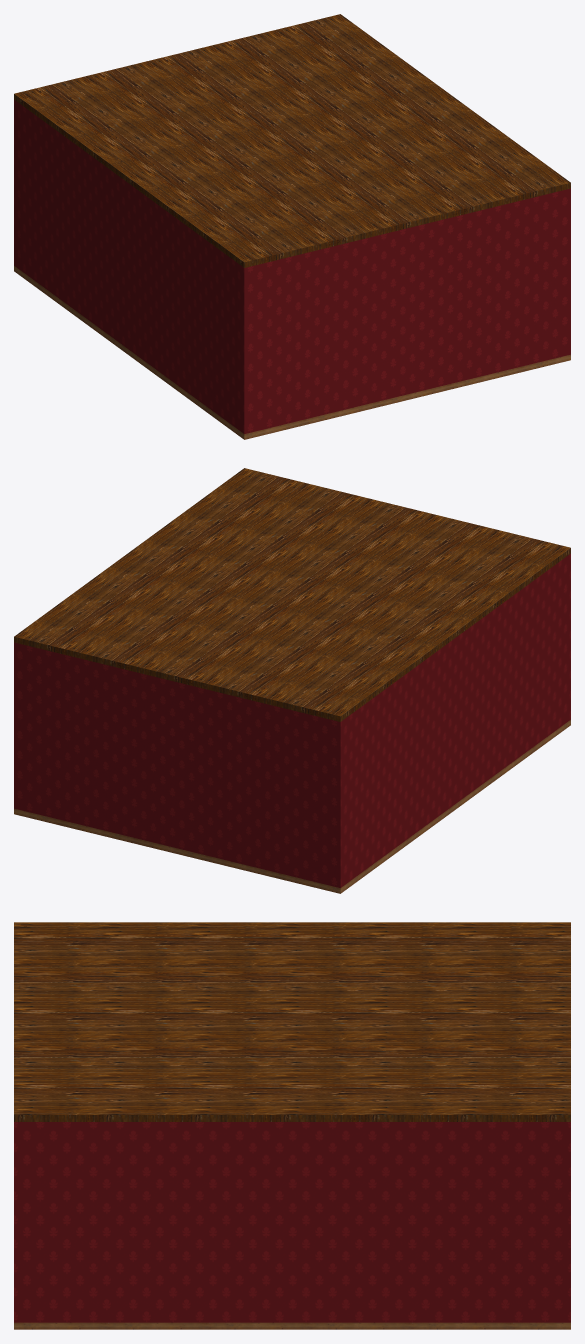
Rendered from redroom.glb.
3 views of the same model, one above another, from view 1: azimuth 30°, elevation 25°; view 2: azimuth 150°, elevation 25°; view 3: azimuth 270°, elevation 25° (orthographic). The views are drawn at different scales.
Parts seen in each view (by area): view 1: ceiling, front wall, left wall, floor, back wall; view 2: ceiling, back wall, left wall, floor, front wall; view 3: ceiling, right wall, floor, back wall, front wall.
Boxes of the visible parts, box(x1,y1,x2,y2) form: ceiling: box(14, 14, 570, 267); front wall: box(236, 188, 570, 433); left wall: box(22, 105, 236, 428); floor: box(14, 266, 570, 439); back wall: box(14, 99, 21, 270); ceiling: box(14, 468, 570, 721); back wall: box(14, 642, 348, 887); left wall: box(348, 559, 562, 882); floor: box(14, 720, 570, 893); front wall: box(563, 553, 570, 724); ceiling: box(14, 922, 570, 1121); right wall: box(33, 1122, 551, 1322); floor: box(14, 1322, 570, 1329); back wall: box(552, 1122, 570, 1322); front wall: box(14, 1122, 32, 1322).
Size of the model in its own units: 7.2 by 3.74 by 8.8.
Materials: 40 (22 with a texture image).
